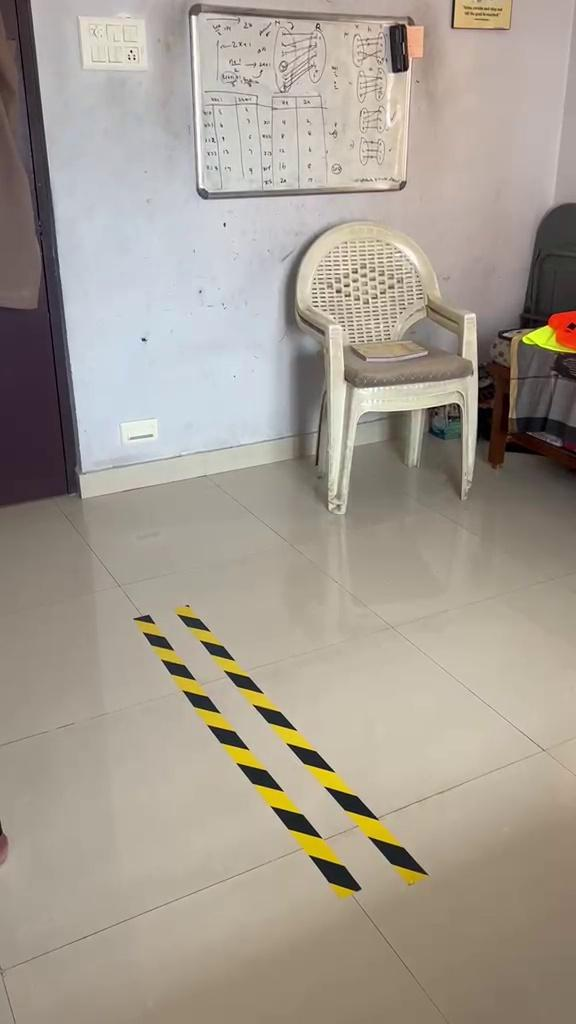BorderLine: (133, 606, 429, 899)
